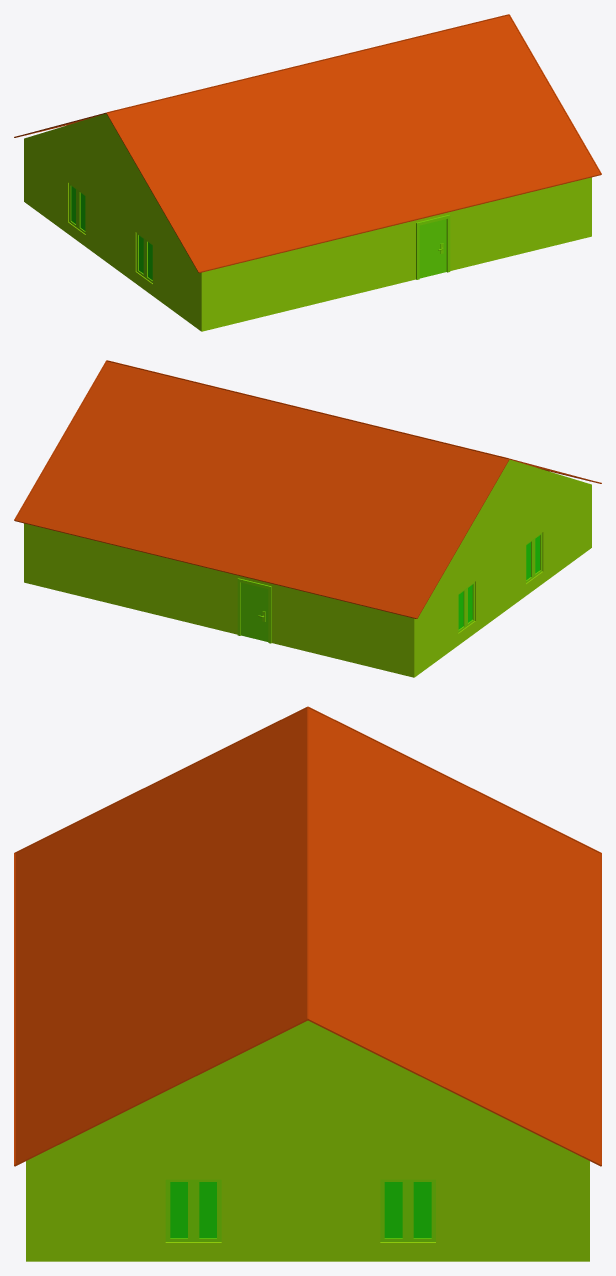
The model's file is GeneratedMeshHousePrefab.fbx.
3 renders of one model, top to bottom at view 1: azimuth 30°, elevation 25°; view 2: azimuth 150°, elevation 25°; view 3: azimuth 270°, elevation 25°, orthographic. The views are drawn at different scales.
Visible parts, largest first — view 1: GeneratedMesh_TMP_; view 2: GeneratedMesh_TMP_; view 3: GeneratedMesh_TMP_.
Part boxes in pixels (x1,y1,x2,y2): GeneratedMesh_TMP_: [14, 14, 601, 331]; GeneratedMesh_TMP_: [14, 360, 601, 677]; GeneratedMesh_TMP_: [14, 706, 601, 1261].
Bounding box in the file's own units: 1333 × 492 × 1060.
Materials: 3 (3 with a texture image).
